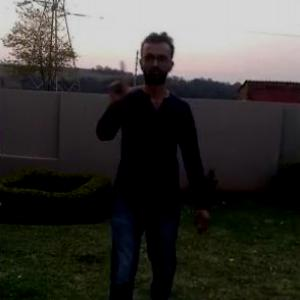land_hand: (104, 58, 147, 106)
